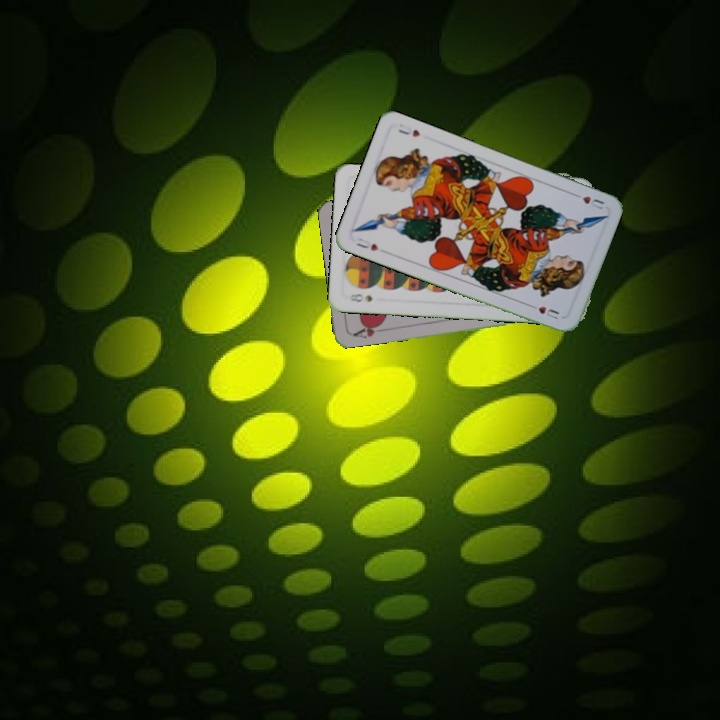HA: (349, 319, 388, 341)
HU: (569, 189, 607, 212), (353, 234, 381, 254)
S8: (345, 289, 375, 305)
